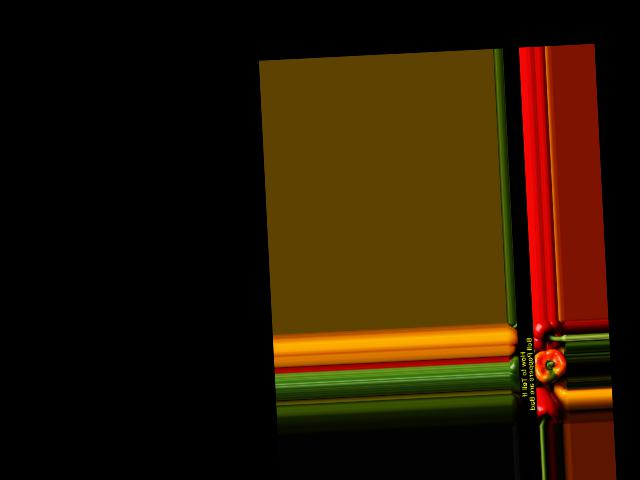bell_pepper: (530, 321, 566, 353)
